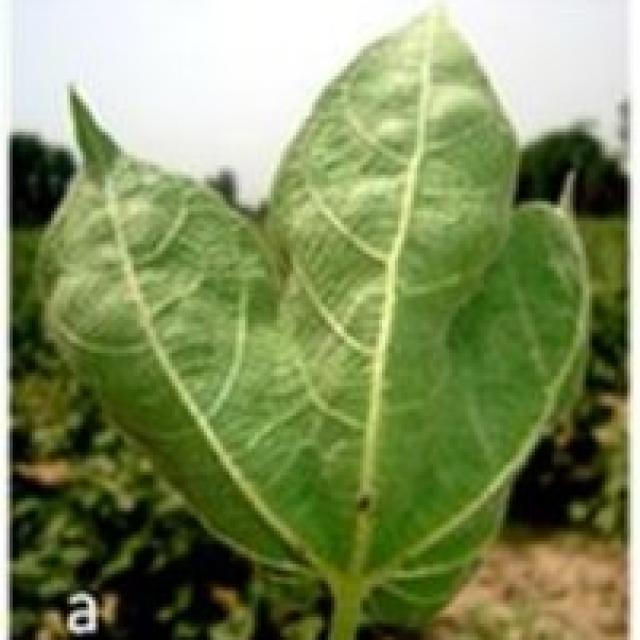Leaf Curl Virus: (78, 178, 498, 503)
